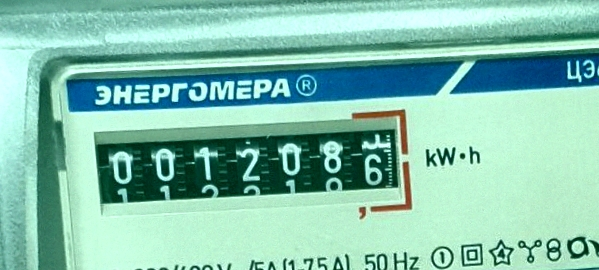0: (107, 145, 136, 186), (276, 138, 303, 176), (152, 144, 178, 183)
1: (193, 142, 217, 182)
2: (236, 143, 265, 183)
6: (360, 149, 385, 187)
8: (317, 136, 345, 175)
screen: (86, 100, 422, 238)
